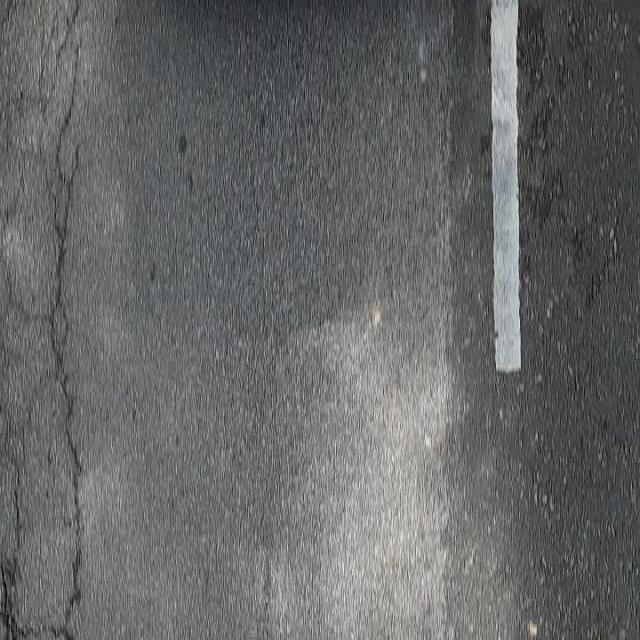cracks: (0, 0, 119, 640)
